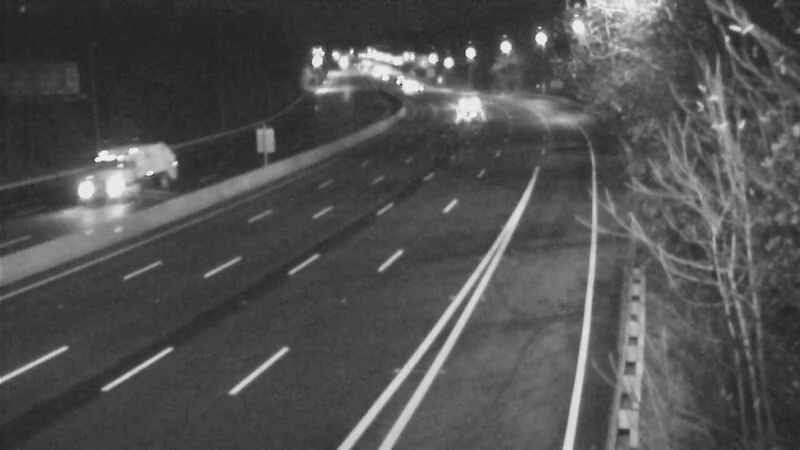vehicle: (75, 140, 155, 220), (384, 61, 434, 111), (444, 77, 494, 127), (444, 89, 494, 139)
